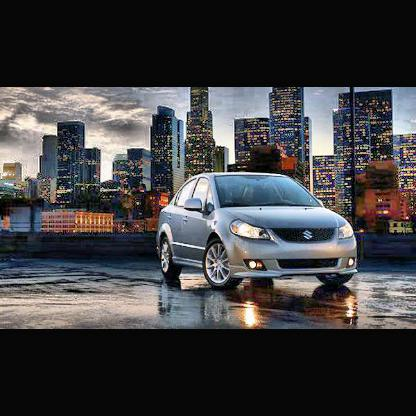Suzuki SX4 Sedan 2012: (156, 168, 360, 294)
